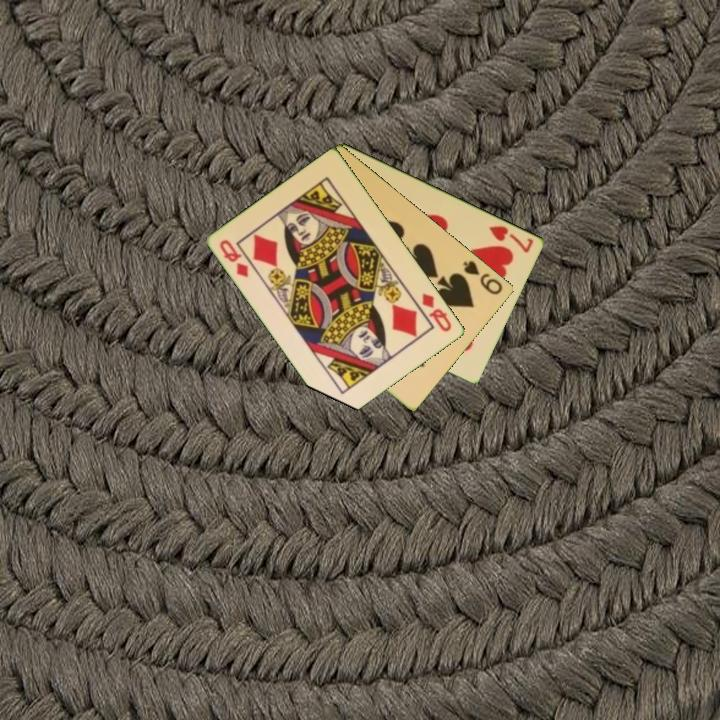7h: (486, 222, 537, 256)
9s: (460, 257, 506, 298)
Qd: (419, 289, 455, 335), (216, 236, 252, 281)
